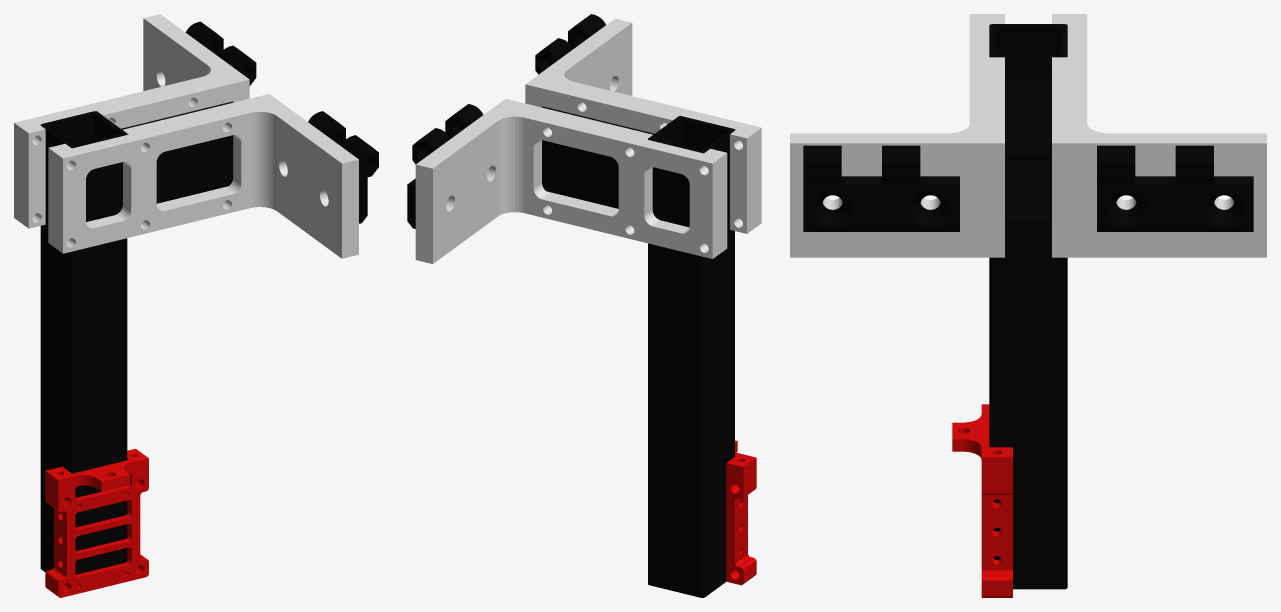
Rendered from passive_gripper_fixed_part_right.dae.
3 views of the same model, side by side, from view 1: azimuth 30°, elevation 25°; view 2: azimuth 150°, elevation 25°; view 3: azimuth 270°, elevation 25° (orthographic). The views are drawn at different scales.
Parts seen in each view (by area): view 1: passive_gripper_fixed_part_right_white, passive_gripper_fixed_part_right_black, passive_gripper_fixed_part_right_red; view 2: passive_gripper_fixed_part_right_white, passive_gripper_fixed_part_right_black, passive_gripper_fixed_part_right_red; view 3: passive_gripper_fixed_part_right_black, passive_gripper_fixed_part_right_white, passive_gripper_fixed_part_right_red.
Boxes of the visible parts, x1,y1,x2,y2 form: passive_gripper_fixed_part_right_white: (14, 14, 358, 258); passive_gripper_fixed_part_right_black: (40, 21, 378, 574); passive_gripper_fixed_part_right_red: (45, 448, 148, 597); passive_gripper_fixed_part_right_white: (415, 18, 761, 263); passive_gripper_fixed_part_right_black: (407, 14, 734, 597); passive_gripper_fixed_part_right_red: (726, 440, 756, 585); passive_gripper_fixed_part_right_black: (803, 24, 1253, 589); passive_gripper_fixed_part_right_white: (790, 14, 1266, 257); passive_gripper_fixed_part_right_red: (952, 404, 1012, 597).
Bounding box in the file's own units: 0.0872 × 0.1218 × 0.1514.
